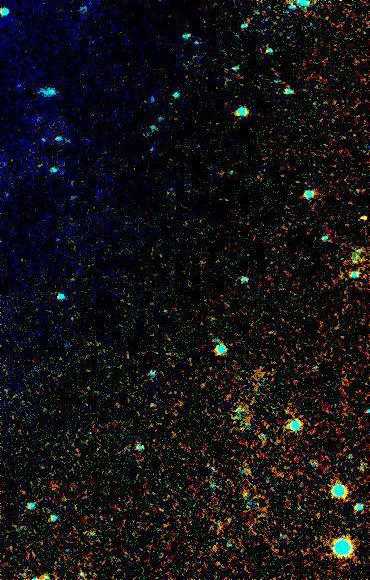star: (227, 481, 257, 511)
